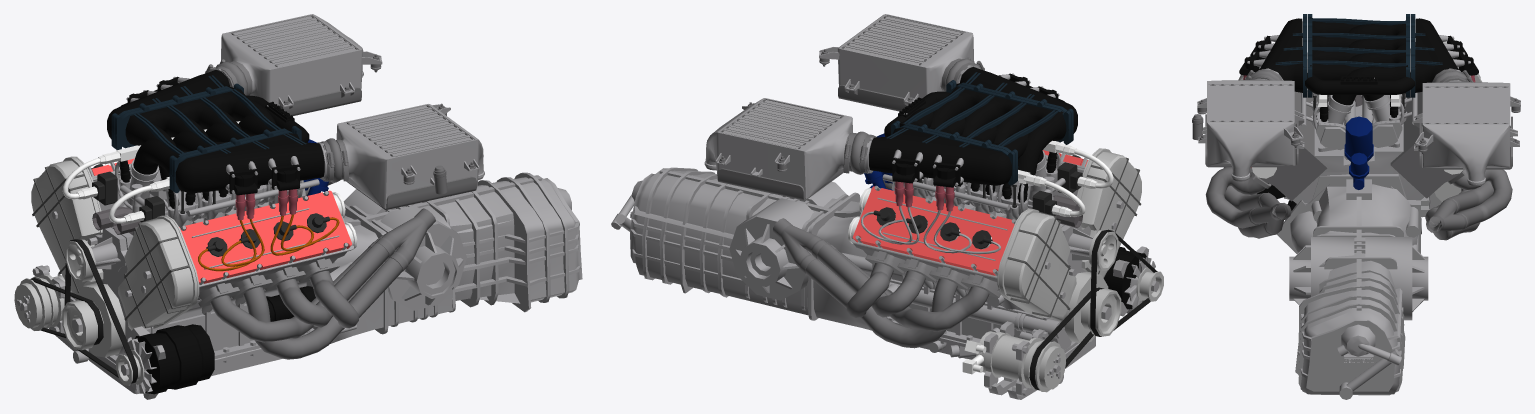
The model's file is f40_engine.glb.
The picture shows the model from 3 angles, left to right: view 1: azimuth 30°, elevation 25°; view 2: azimuth 150°, elevation 25°; view 3: azimuth 270°, elevation 25°; orthographic projection. The views are drawn at different scales.
Parts seen in each view (by area): view 1: f40 engine.001_3, f40 engine.002_4, f40 engine.005_7, f40 engine.014_16, f40 engine.015_17, f40 engine.017_19, f40 engine.009_11, f40 engine.007_9, f40 engine_2, f40 engine.018_20, f40 engine.016_18, f40 engine.006_8 (+4 smaller); view 2: f40 engine.001_3, f40 engine.005_7, f40 engine.002_4, f40 engine.014_16, f40 engine.015_17, f40 engine.017_19, f40 engine.009_11, f40 engine.007_9, f40 engine_2, f40 engine.018_20, f40 engine.016_18, f40 engine.004_6 (+3 smaller); view 3: f40 engine.001_3, f40 engine.014_16, f40 engine.002_4, f40 engine.009_11, f40 engine.015_17, f40 engine.011_13, f40 engine.005_7, f40 engine.003_5.
Boxes of the visible parts, box(x1,y1,x2,y2) form: f40 engine.001_3: box(16, 14, 582, 399); f40 engine.002_4: box(107, 70, 324, 394); f40 engine.005_7: box(14, 156, 199, 385); f40 engine.014_16: box(93, 174, 435, 359); f40 engine.015_17: box(205, 15, 483, 209); f40 engine.017_19: box(91, 158, 351, 283); f40 engine.009_11: box(111, 75, 306, 193); f40 engine.007_9: box(91, 164, 329, 256); f40 engine_2: box(30, 239, 137, 383); f40 engine.018_20: box(198, 258, 339, 307); f40 engine.016_18: box(32, 166, 190, 327); f40 engine.006_8: box(198, 214, 339, 271); f40 engine.001_3: box(611, 14, 1158, 399); f40 engine.005_7: box(976, 148, 1163, 392); f40 engine.002_4: box(869, 66, 1150, 309); f40 engine.014_16: box(773, 165, 1083, 348); f40 engine.015_17: box(706, 16, 984, 200); f40 engine.017_19: box(852, 150, 1088, 275); f40 engine.009_11: box(886, 72, 1073, 185); f40 engine.007_9: box(873, 155, 1083, 249); f40 engine_2: box(1029, 229, 1157, 390); f40 engine.018_20: box(865, 251, 1000, 297); f40 engine.016_18: box(1006, 157, 1141, 317); f40 engine.004_6: box(962, 149, 1113, 374); f40 engine.001_3: box(1197, 35, 1520, 399); f40 engine.014_16: box(1205, 90, 1512, 240); f40 engine.002_4: box(1239, 17, 1478, 210); f40 engine.009_11: box(1275, 14, 1442, 97); f40 engine.015_17: box(1192, 69, 1520, 186); f40 engine.011_13: box(1344, 116, 1373, 189); f40 engine.005_7: box(1238, 41, 1481, 201); f40 engine.003_5: box(1252, 167, 1463, 178).
Bounding box in the file's own units: 7.39 × 3.44 × 4.77.
